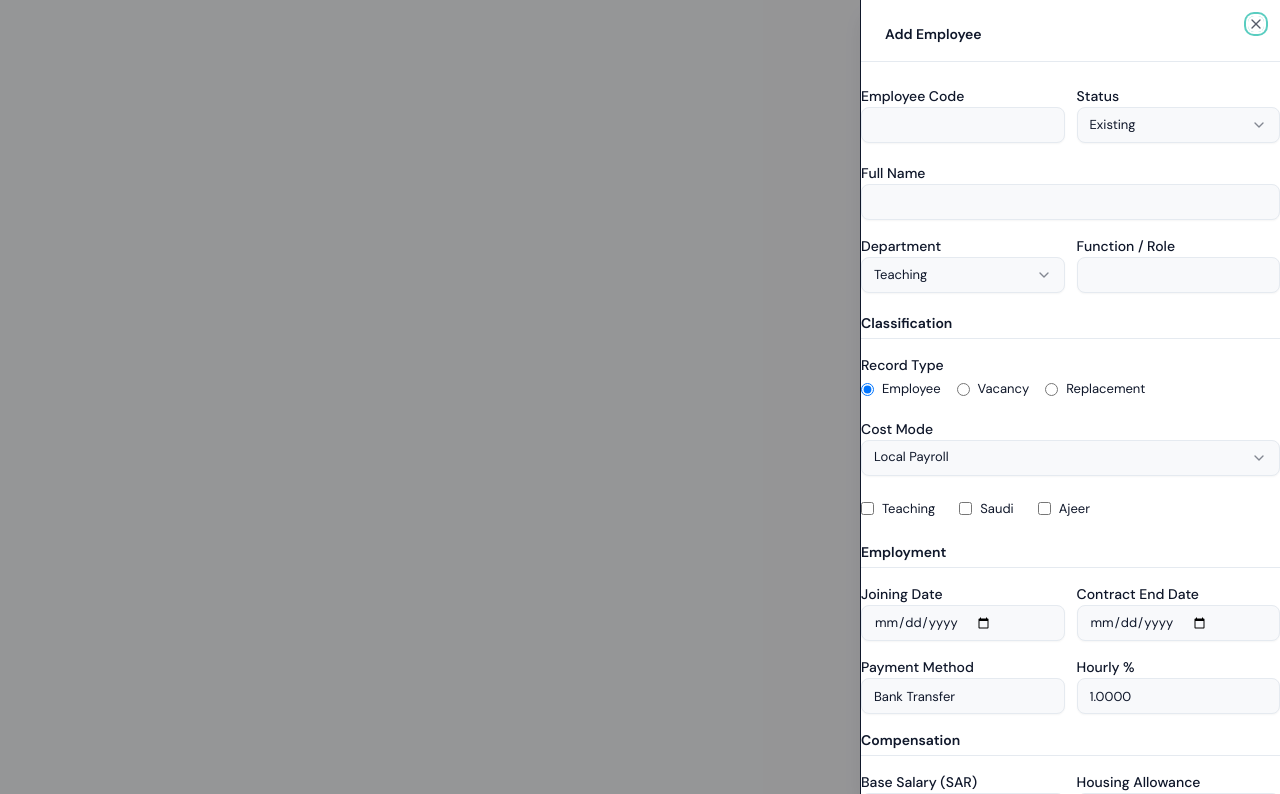
EmployeeForm — conditional visibility › recordType = VACANCY › auto-generates VAC-NNN code and makes code read-only
# Switch to Vacancy mode
Click the radio button labelled "Vacancy": (963, 389) x1=956 y1=383 x2=970 y2=396
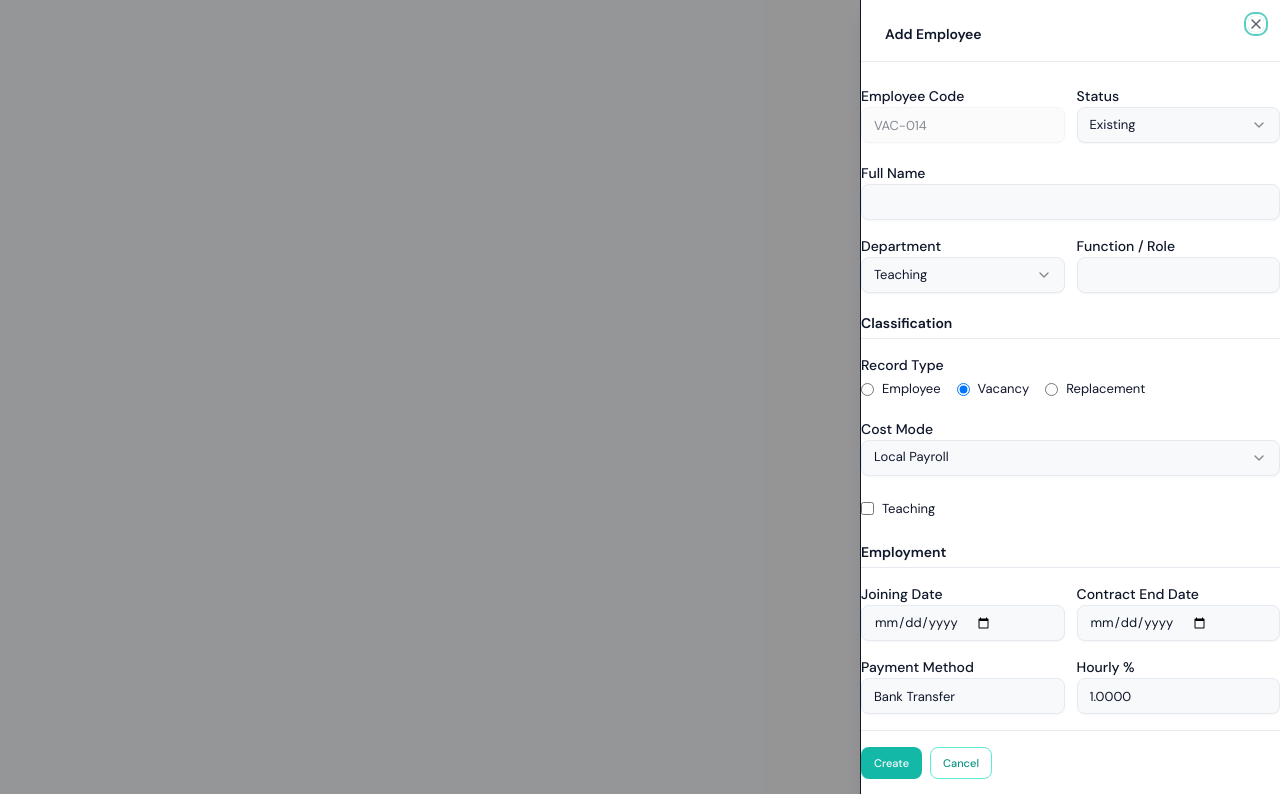
Now the field showing "VAC-" below "Employee Code" is shown, box x1=861 y1=107 x2=1064 y2=143
